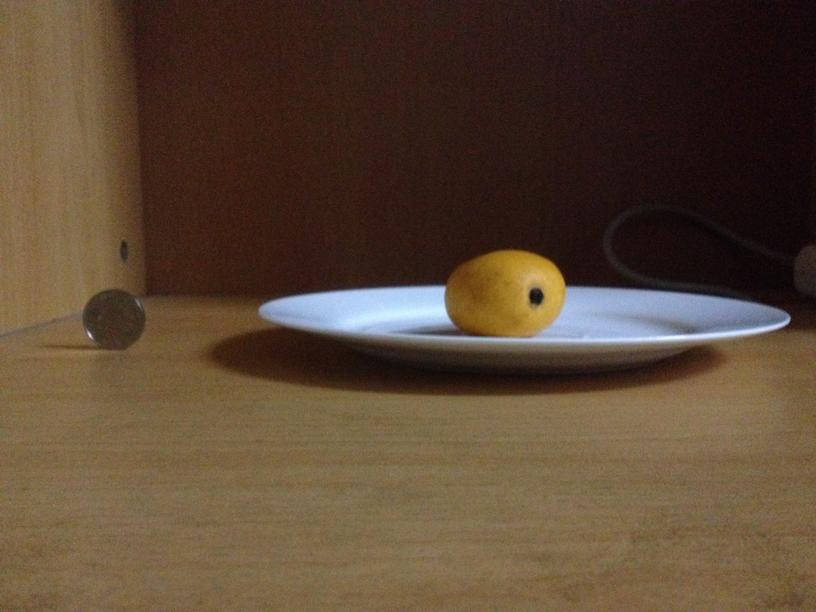coin: (81, 286, 146, 349)
mango: (443, 252, 567, 339)
